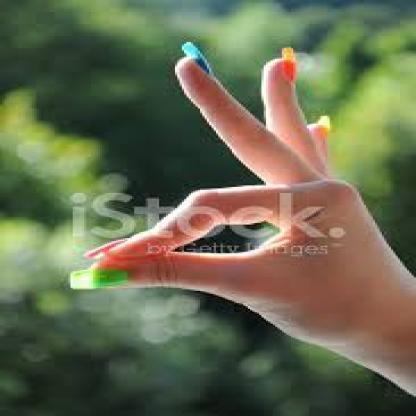ok: (62, 38, 392, 348)
